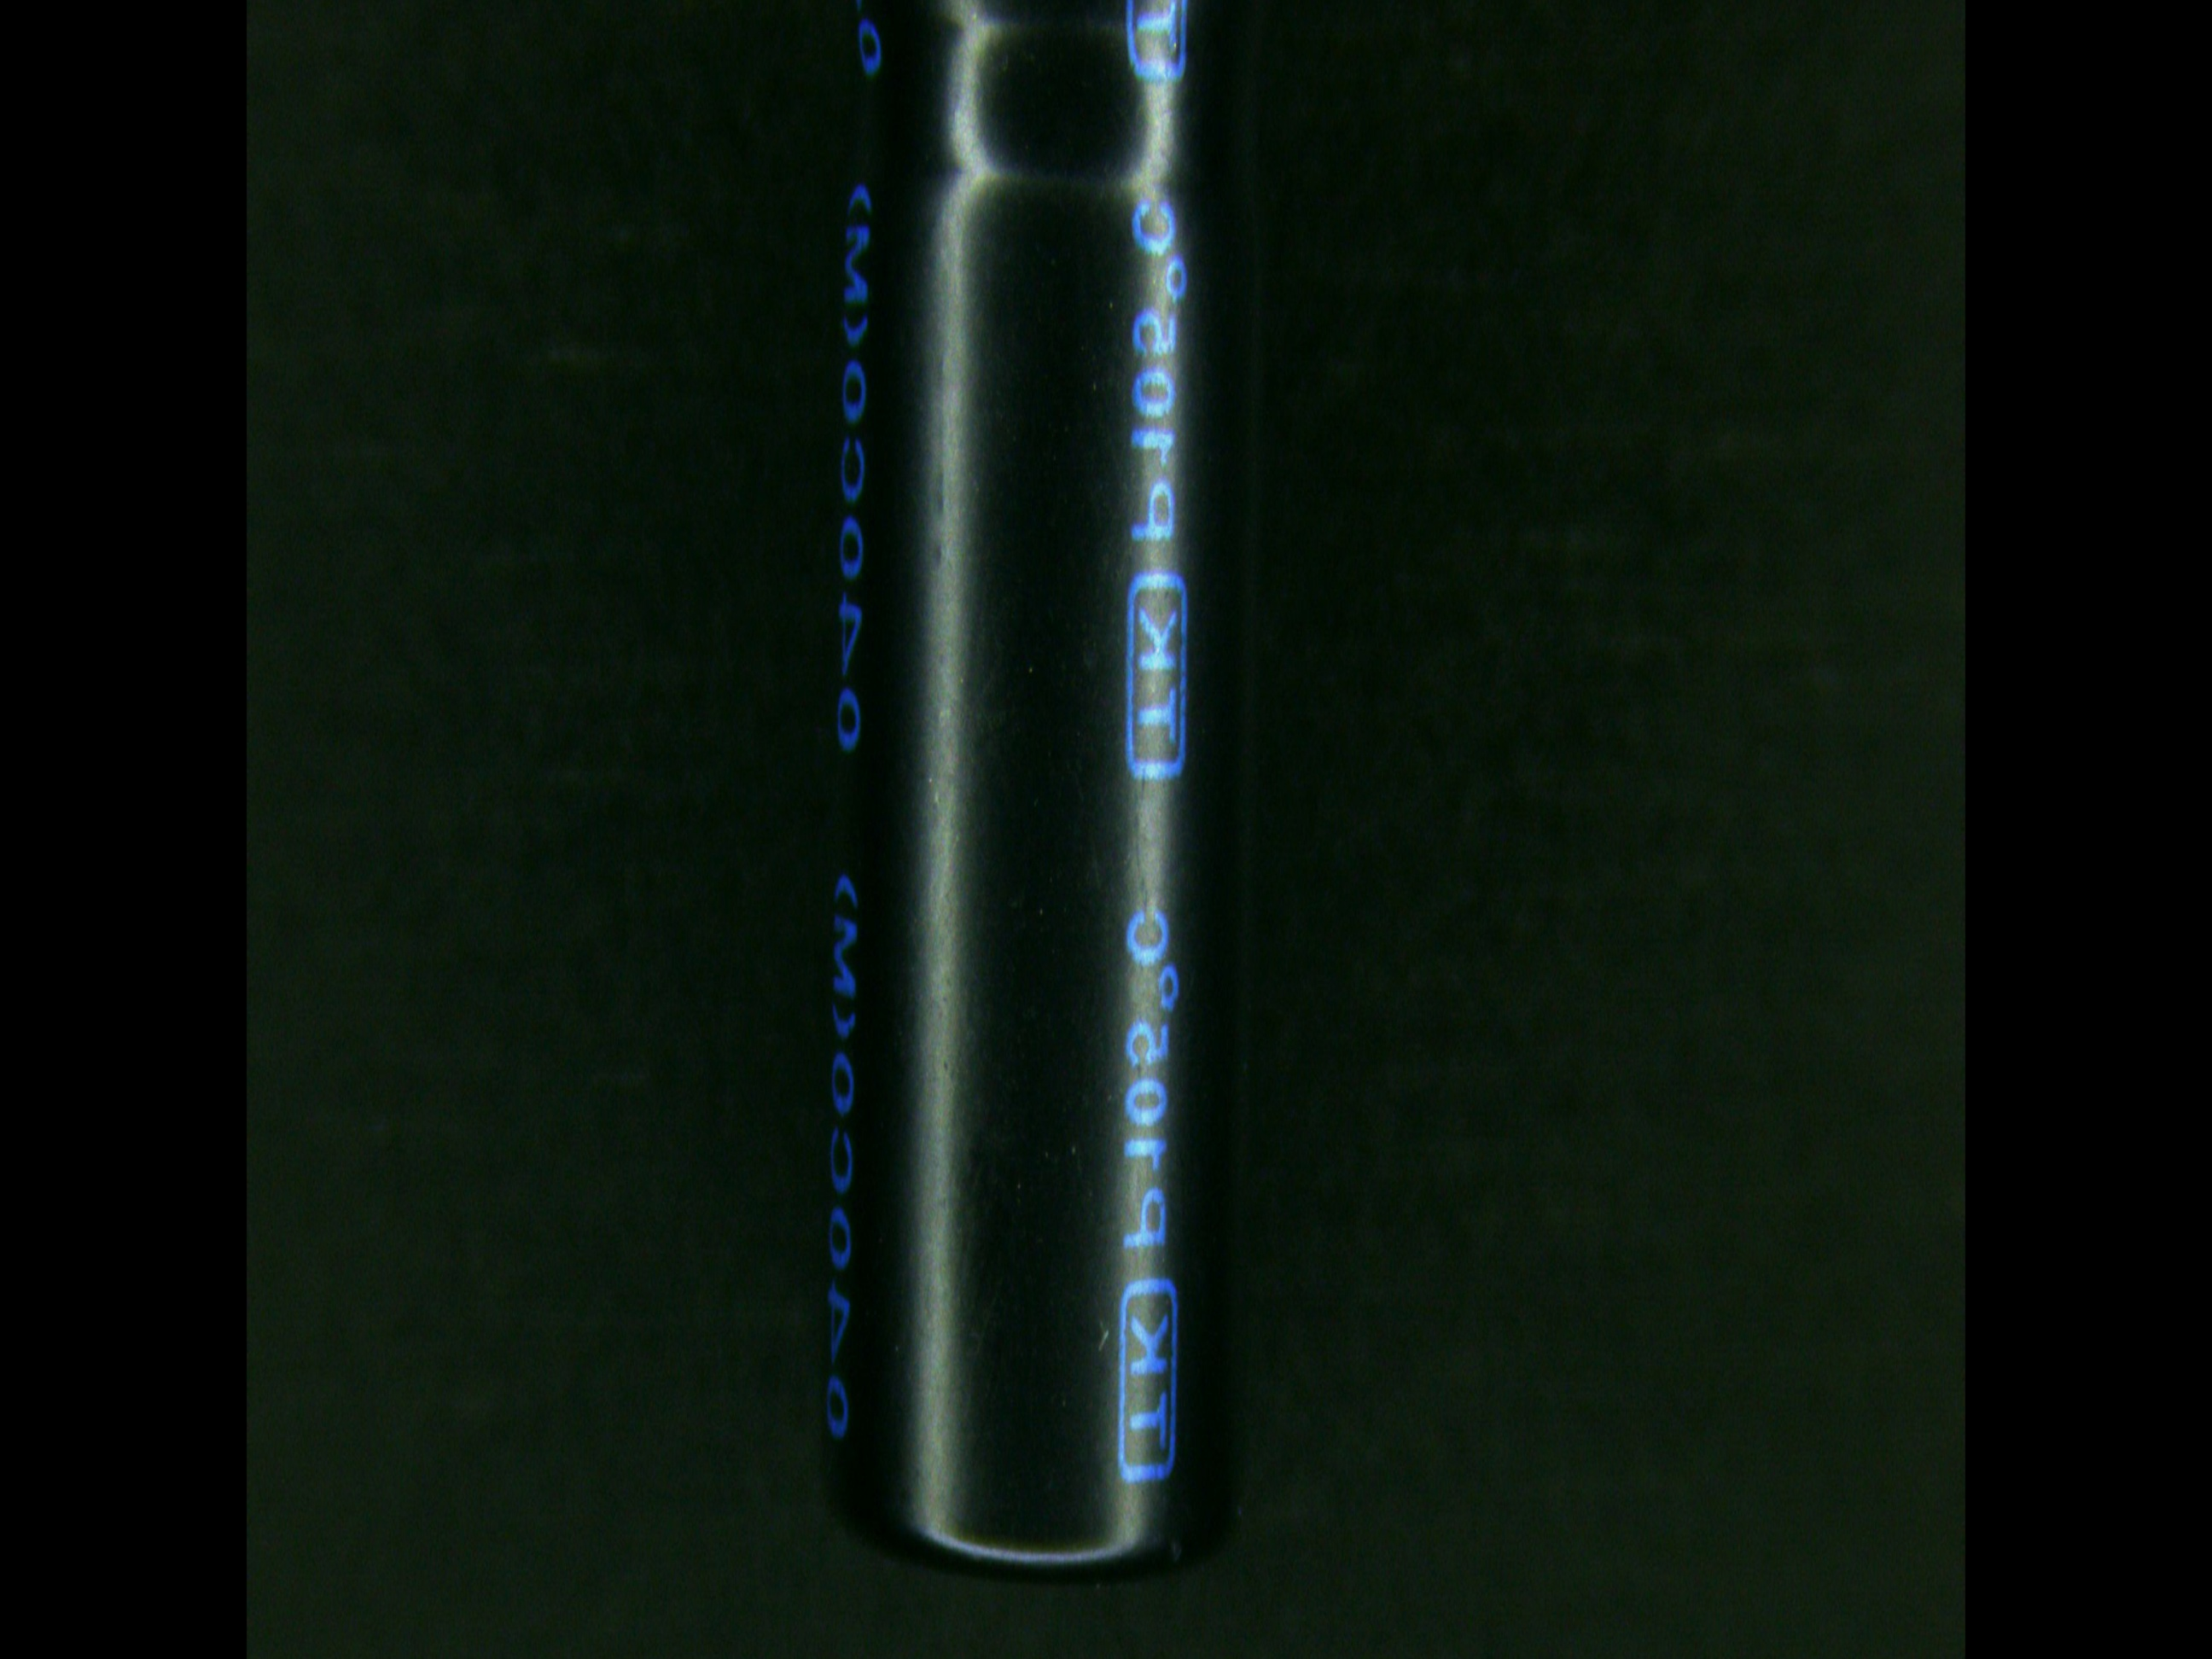c2: (803, 0, 1266, 1582)
